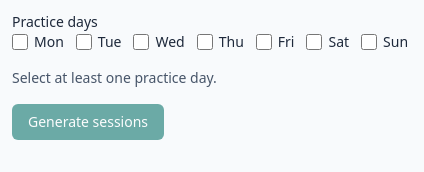
Scenario: SessionGenerationForm › disables submission until a weekday is selected and shows a preview count once one is
Expected: the text "Select at least one practice day." is shown, [12,68,217,87]
Expected: the button "Generate sessions" is disabled, [12,104,164,140]
Click the checkbox labelled "Tue". click: [84, 42]
box: [76,34,92,50]
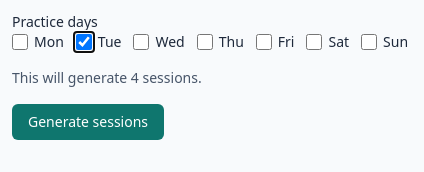
Expected: the text "This will generate 4 sessions." is shown, [12,68,202,87]
Expected: the button "Generate sessions" is enabled, [12,104,164,140]
